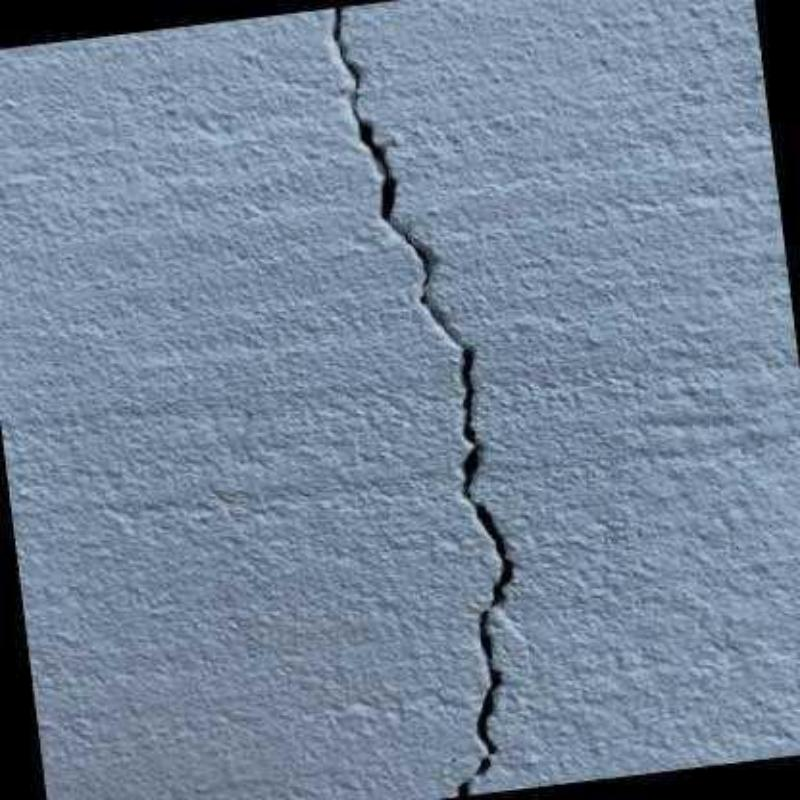crack: (325, 8, 520, 795)
